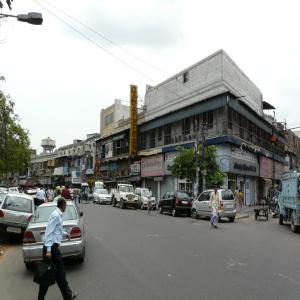Vehicle-registration-plate: (8, 226, 22, 233), (43, 233, 46, 241), (228, 204, 234, 208), (183, 202, 188, 204), (107, 201, 111, 202)
